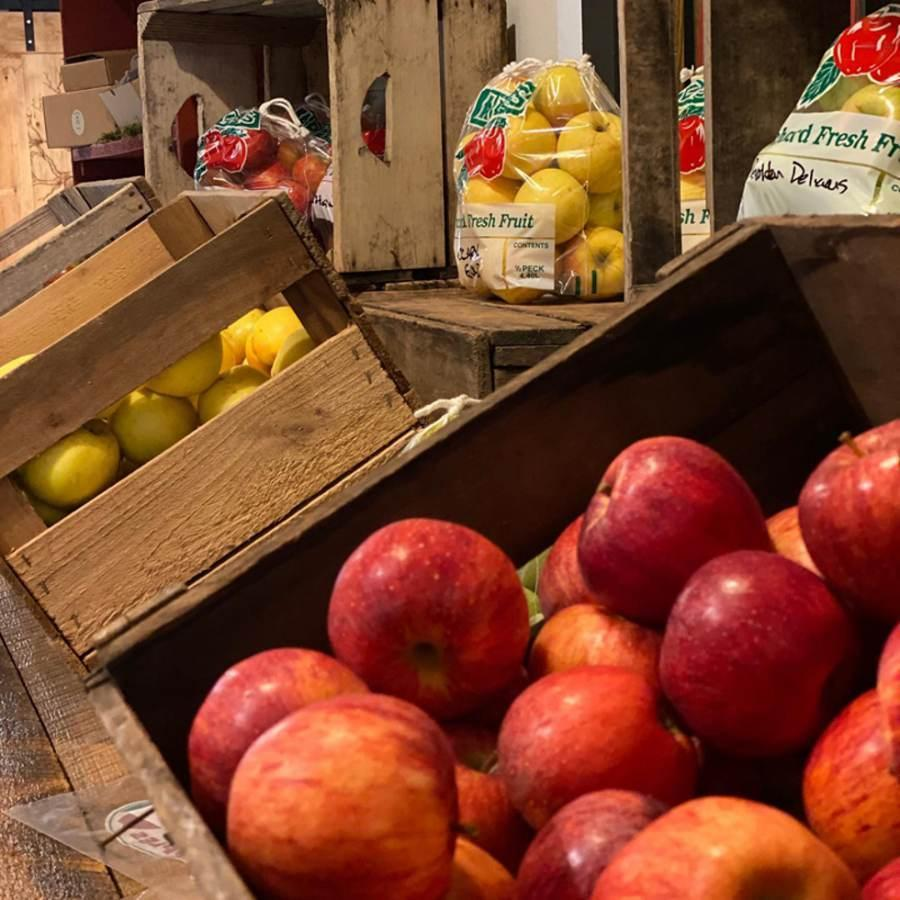apple: (221, 701, 459, 896), (653, 548, 860, 765), (324, 516, 529, 715), (180, 644, 363, 833), (579, 437, 771, 610), (497, 670, 699, 828), (588, 793, 866, 897), (793, 420, 898, 625), (799, 656, 898, 870), (524, 603, 662, 681)
